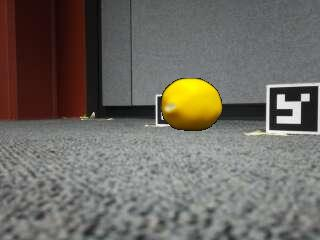lemon: (161, 78, 222, 130)
